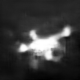plane: (18, 24, 76, 68)
